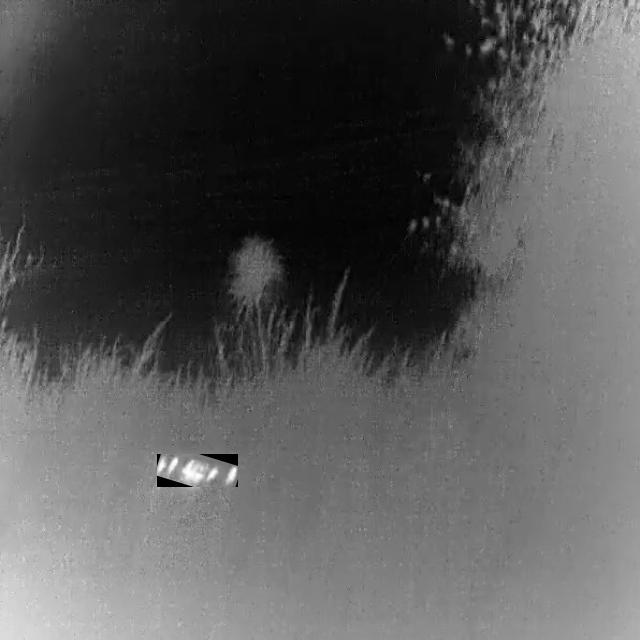drone: (157, 454, 238, 487)
